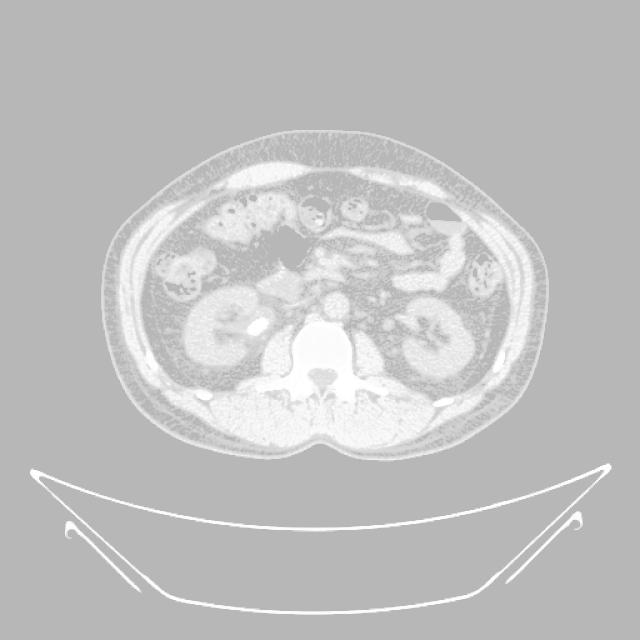STONE: (161, 179, 508, 323)
